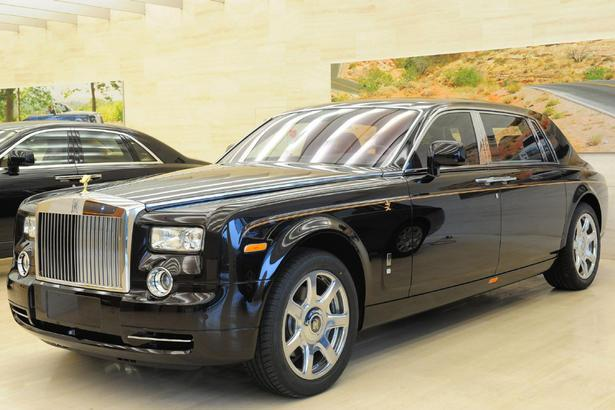Sedan: (6, 95, 608, 398), (0, 118, 212, 215)
